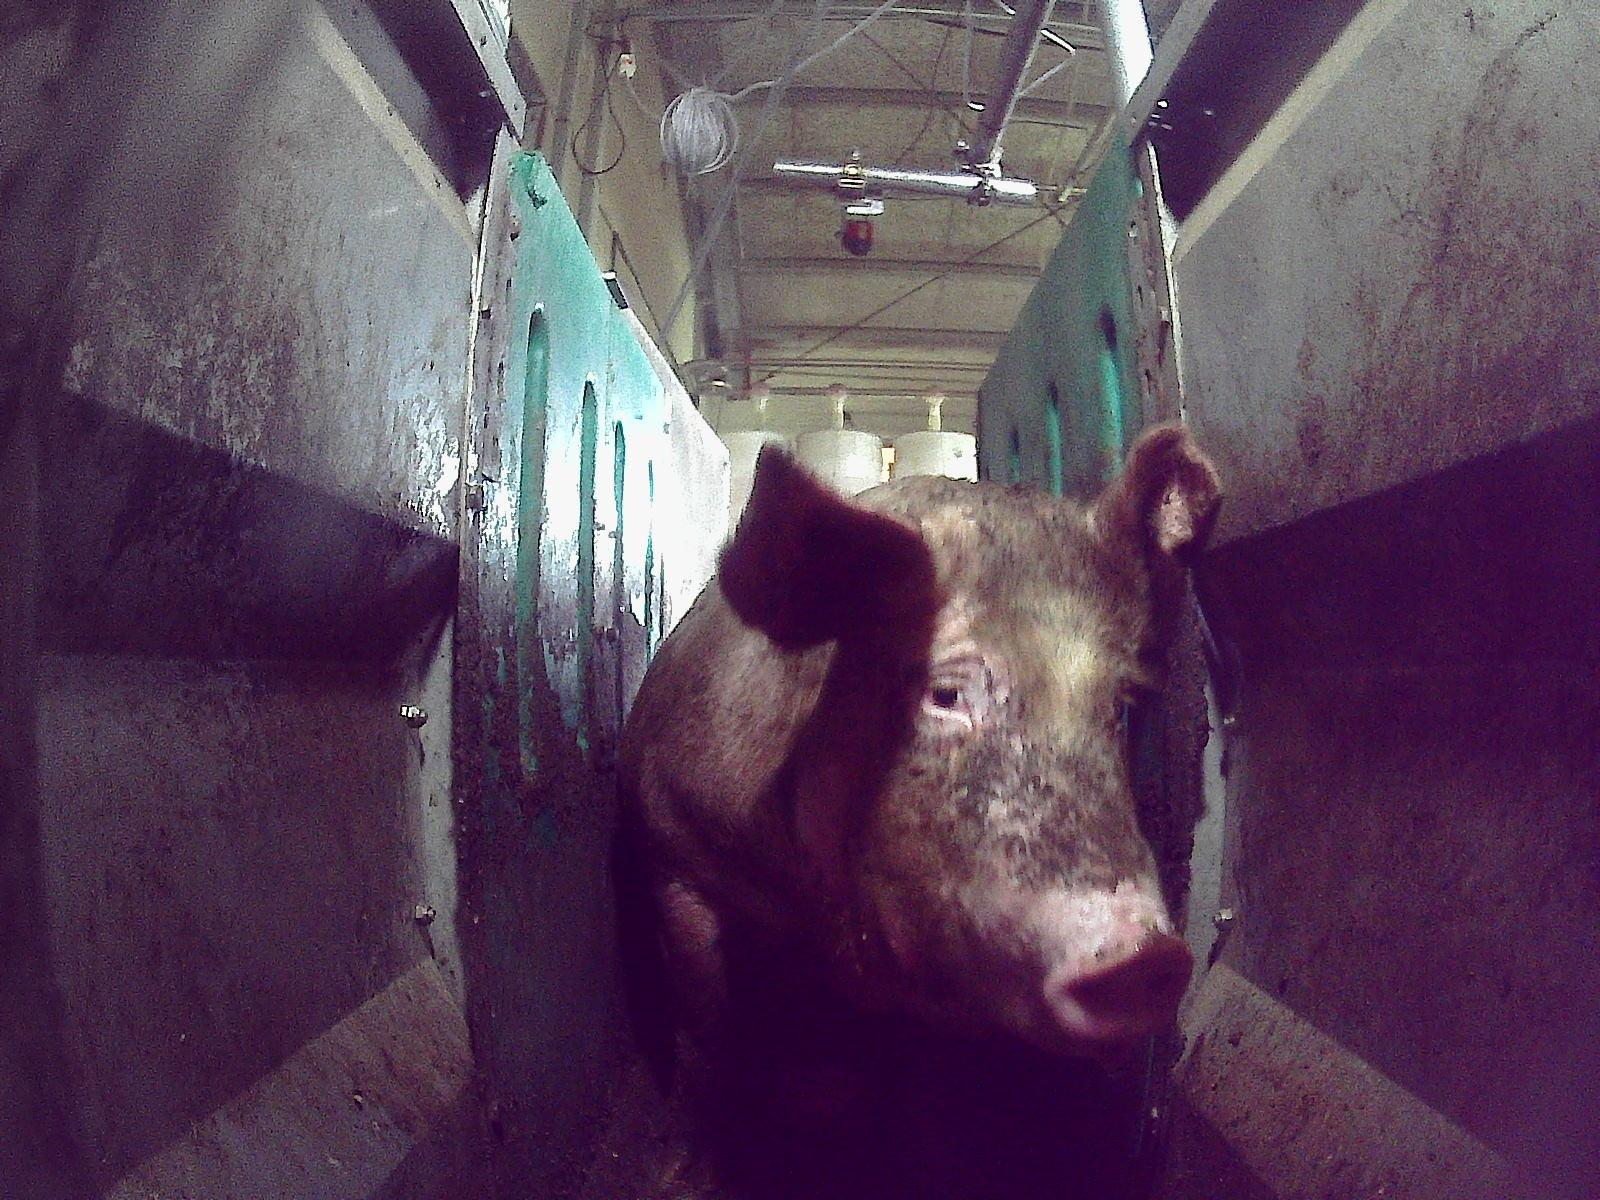Face: (800, 504, 1196, 1057)
